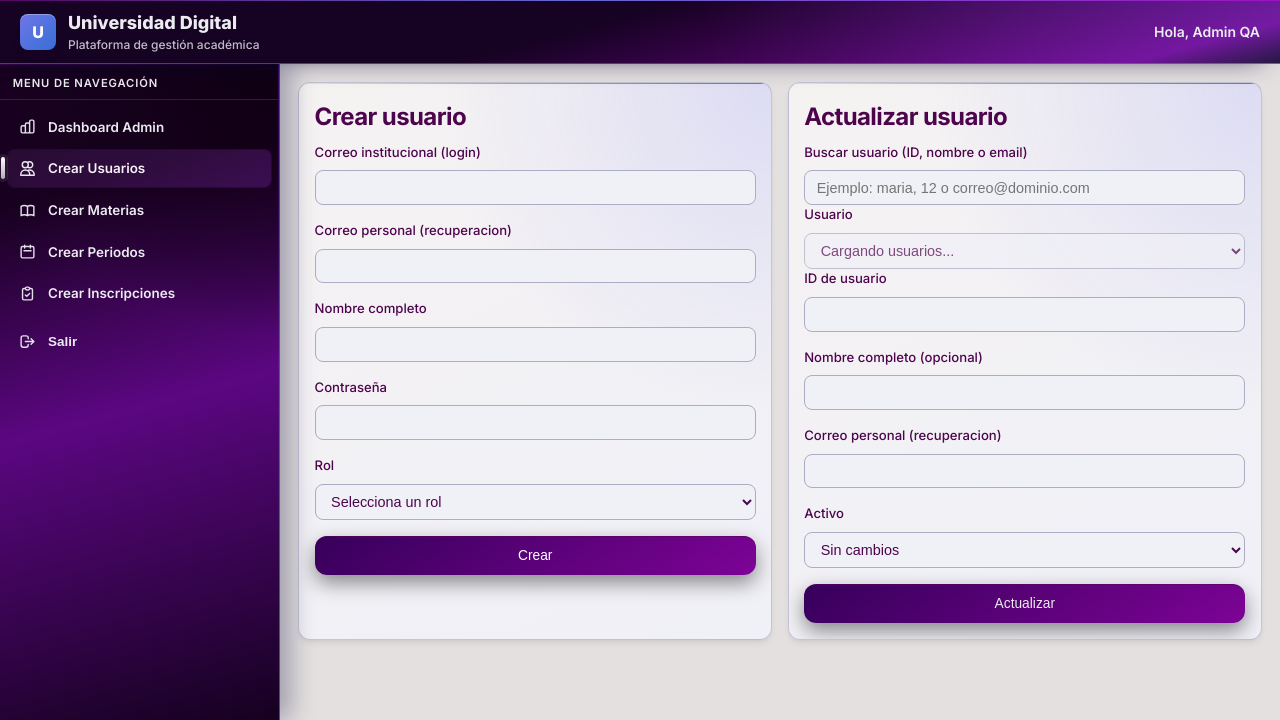
Usuarios — Gestión básica › crea usuario y muestra alerta de éxito
Type "docente@uni.com" into the field named "email". click: (536, 188)
box: [315,170,756,205]
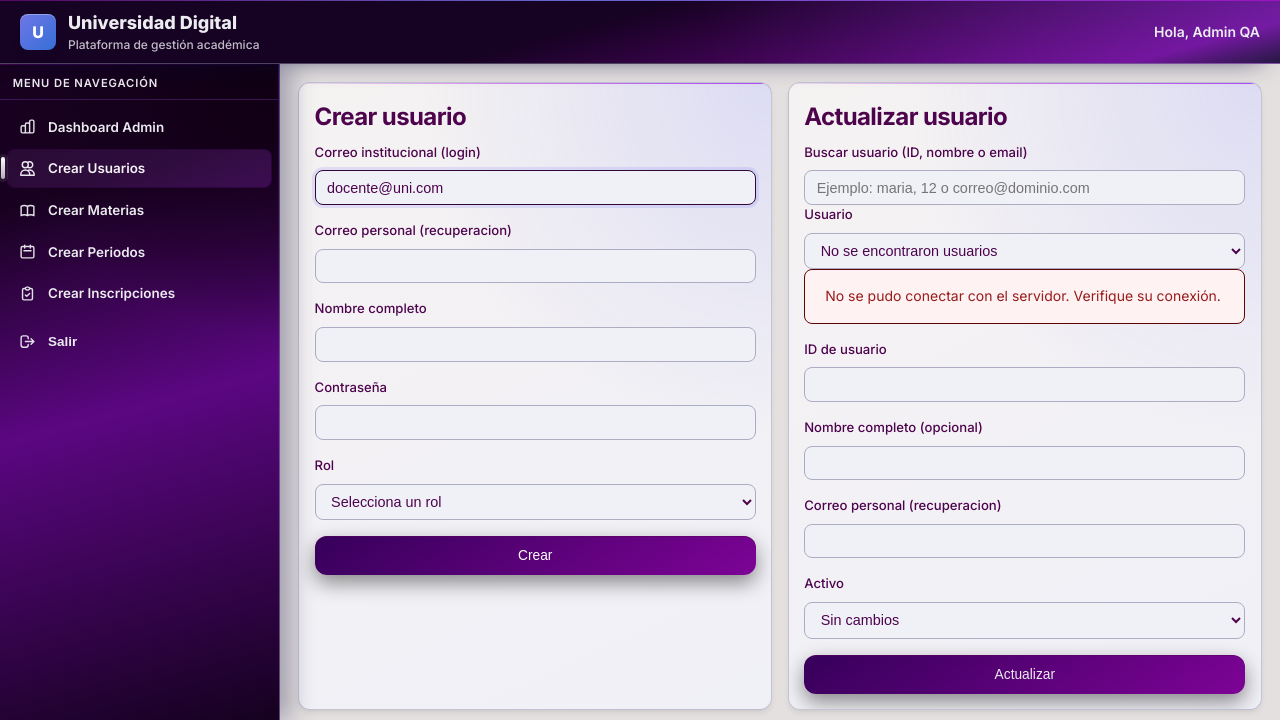
Type "Docente QA" into the field named "full_name". click: (536, 345)
box: [315,327,756,362]
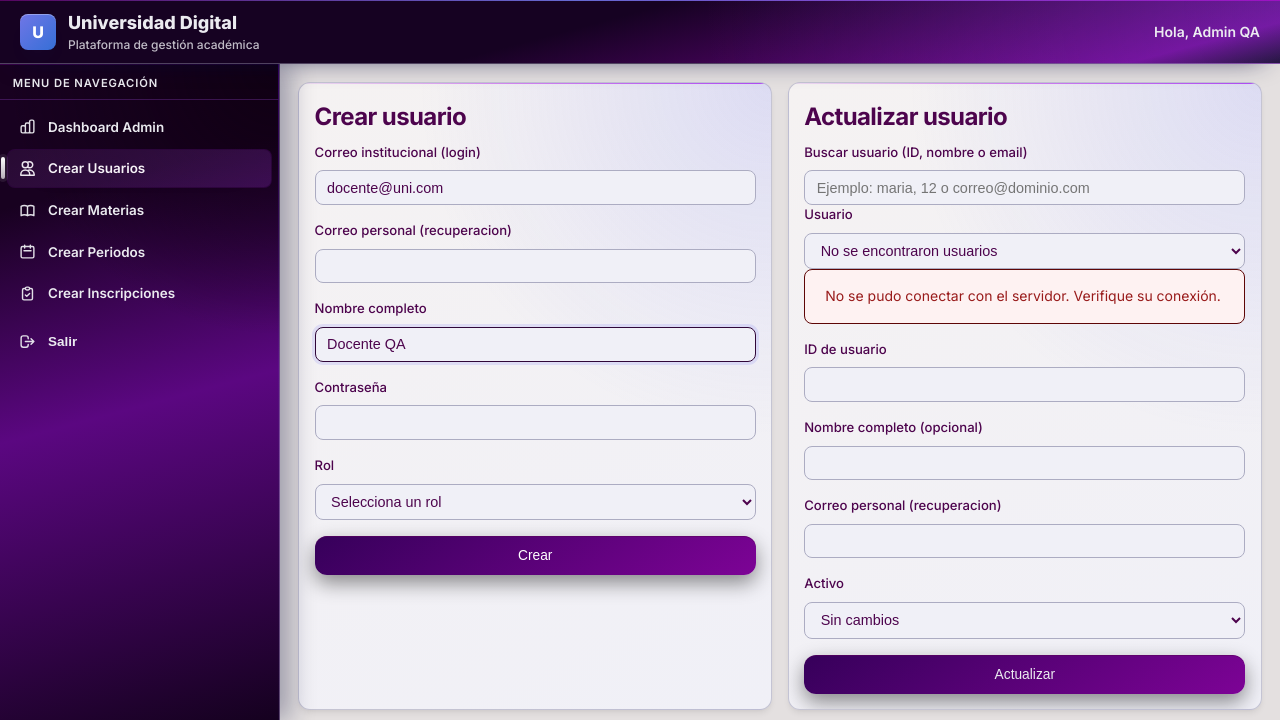
Type "Password123" into the password field named "password". click: (536, 423)
box: [315,405,756,440]
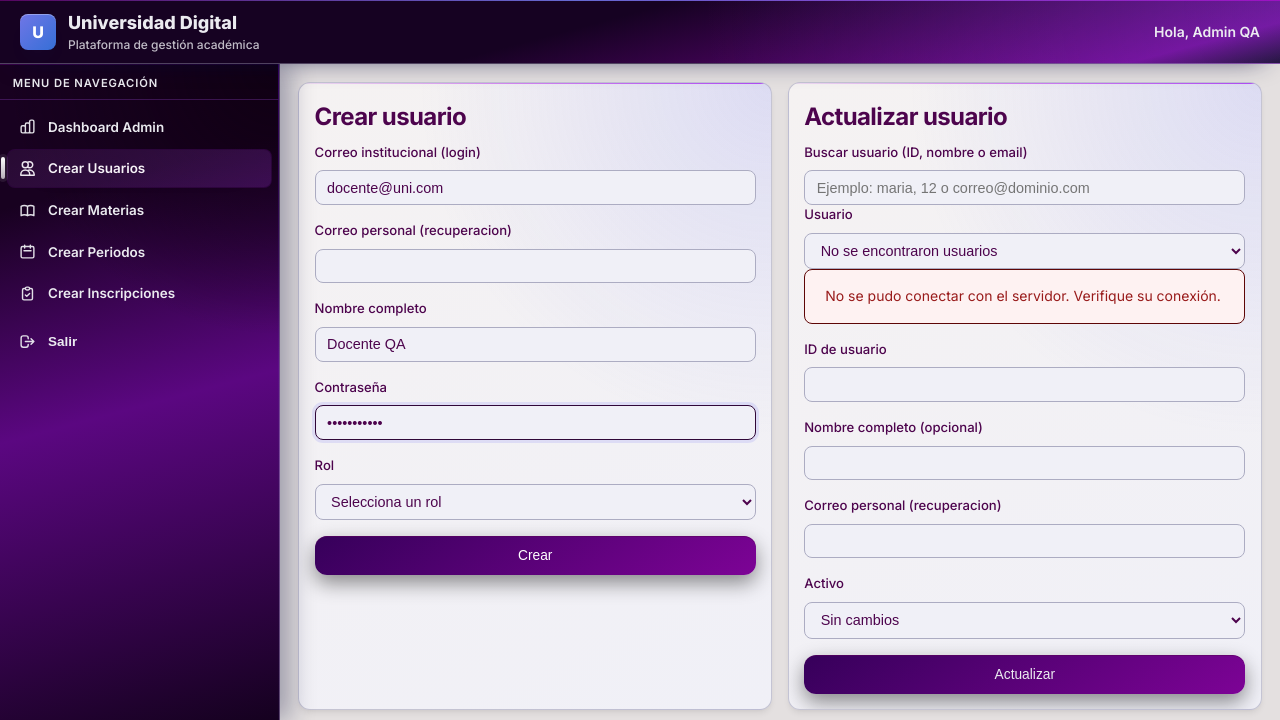
Select "Docente (#2)" in the dropdown named "role_id". click: (536, 503)
box: [315,484,756,521]
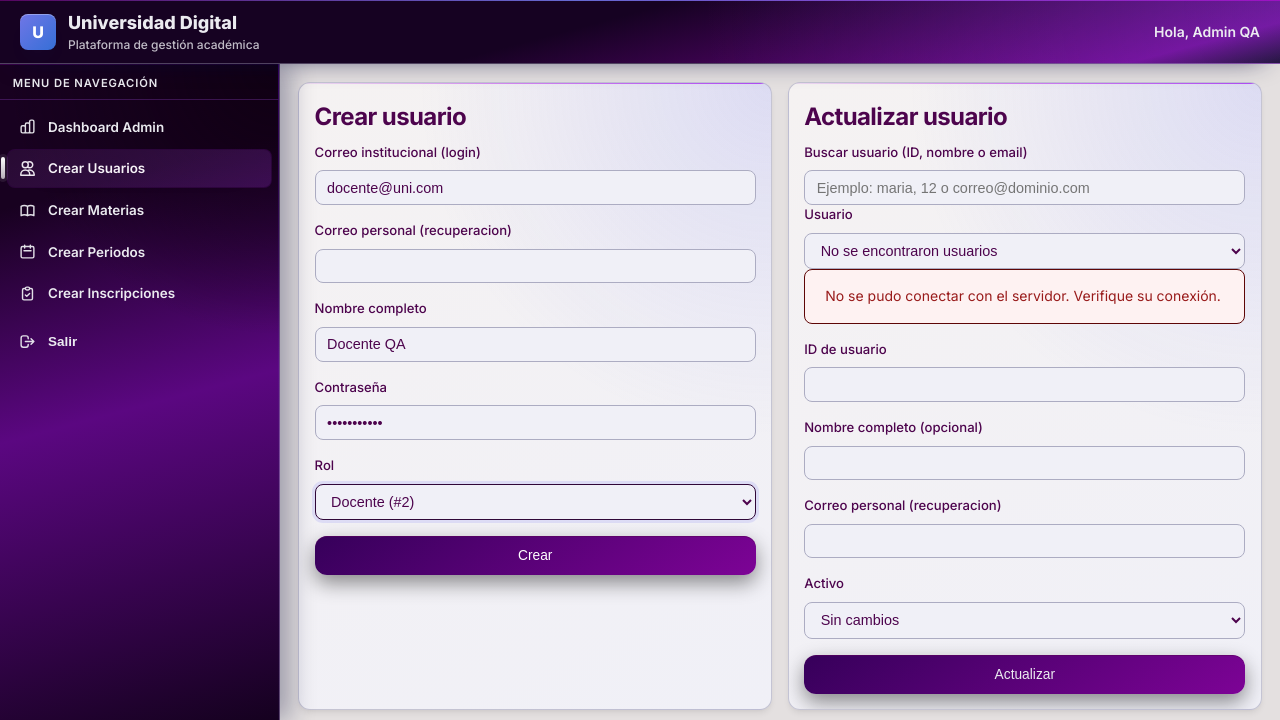
Click the button "Crear". click: (536, 556)
box: [315,536,756,575]
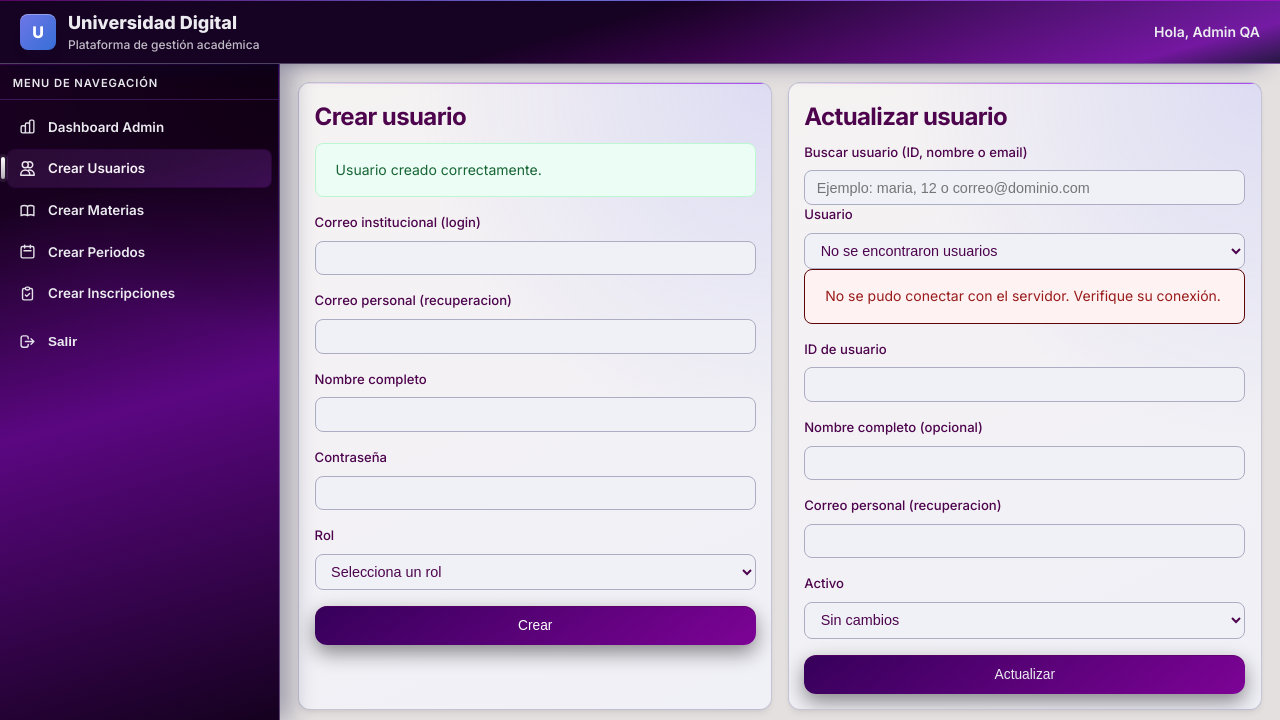
Expected: the text "Usuario creado correctamente." is shown, [315,143,756,197]
